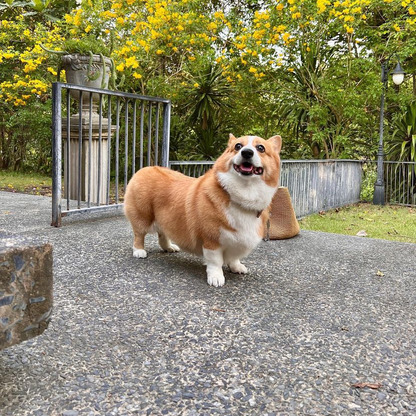Corgi: (110, 119, 300, 298)
